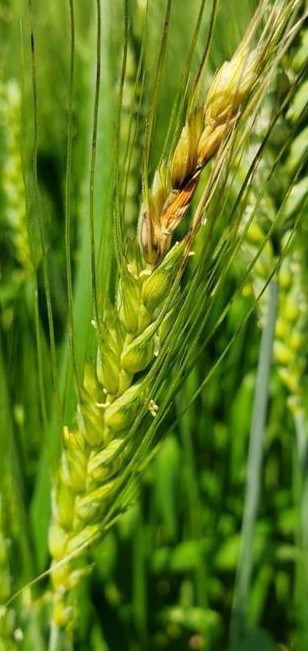Wheat scab: (47, 43, 284, 619)
